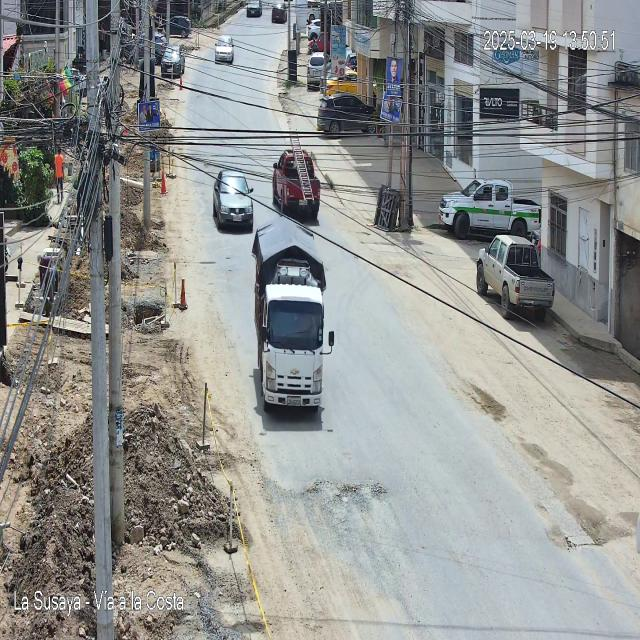CMT: (473, 232, 553, 321), (440, 180, 538, 242)
TRUCK: (254, 220, 336, 413)
